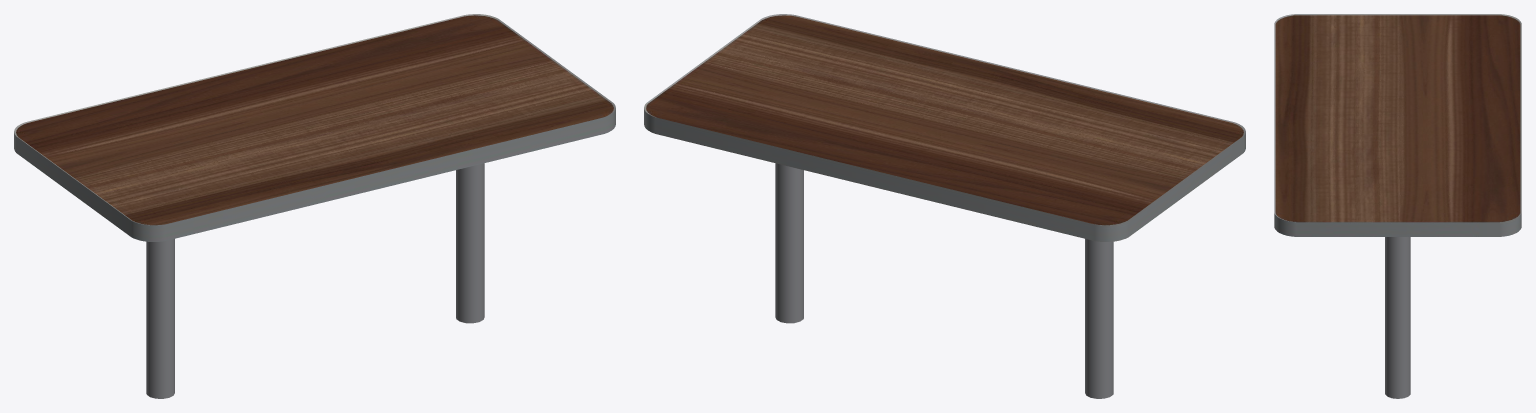
The model's file is SM_Table_05.glb.
3 renders of one model, left to right at view 1: azimuth 30°, elevation 25°; view 2: azimuth 150°, elevation 25°; view 3: azimuth 270°, elevation 25°, orthographic. The views are drawn at different scales.
Parts seen in each view (by area): view 1: SM_Table_05; view 2: SM_Table_05; view 3: SM_Table_05.
Boxes of the visible parts, x1=… form: SM_Table_05: x1=14, y1=14, x2=615, y2=398; SM_Table_05: x1=644, y1=14, x2=1245, y2=398; SM_Table_05: x1=1274, y1=14, x2=1521, y2=398.
Size of the model in its own units: 1.81 by 0.8448 by 0.9084.
Materials: 1 (1 with a texture image).
